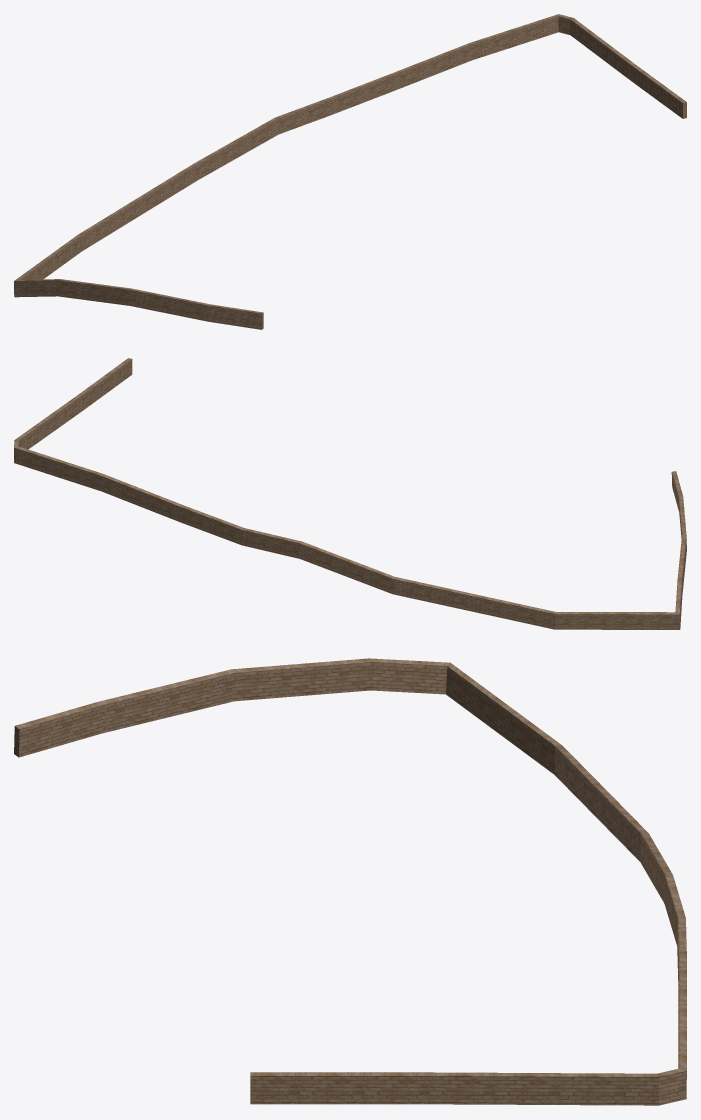
The model's file is sfn_wall_cm02.obj.
The picture shows the model from 3 angles, top to bottom: view 1: azimuth 30°, elevation 25°; view 2: azimuth 150°, elevation 25°; view 3: azimuth 270°, elevation 25°; orthographic projection. The views are drawn at different scales.
Visible parts, largest first — view 1: SFN_wall_cm02; view 2: SFN_wall_cm02; view 3: SFN_wall_cm02.
Boxes of the visible parts, left/top/right/bottom form: SFN_wall_cm02: left=14, top=14, right=686, bottom=329; SFN_wall_cm02: left=14, top=358, right=686, bottom=629; SFN_wall_cm02: left=14, top=658, right=686, bottom=1105.
Size of the model in its own units: 82.35 by 10.86 by 43.5.
1 material, 1 textured.
